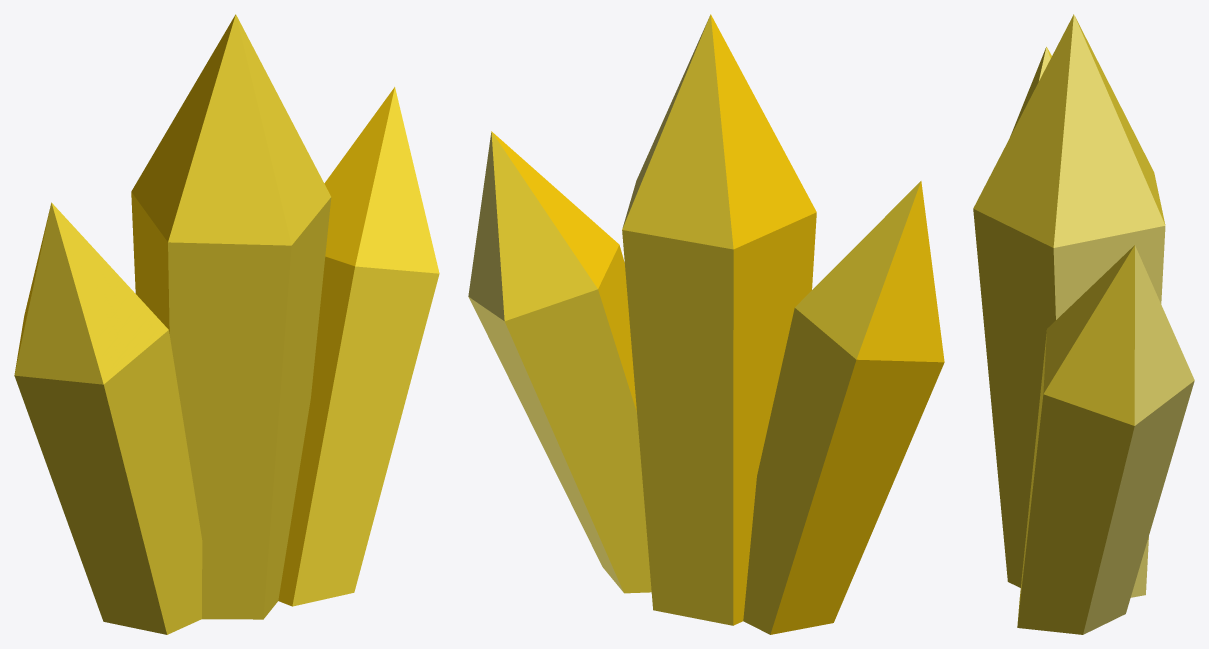
The model's file is Goldgem_rootss.fbx.
The picture shows the model from 3 angles, left to right: view 1: azimuth 30°, elevation 25°; view 2: azimuth 150°, elevation 25°; view 3: azimuth 270°, elevation 25°; orthographic projection.
Visible parts, largest first — view 1: Goldgem_sh_11, Goldgem_sh_5, Goldgem_sh_1, Goldgem_sh_9, Goldgem_sh_7, Goldgem_sh_3, Goldgem_sh_8, Goldgem_sh_6, Goldgem_sh_2, Goldgem_sh_4; view 2: Goldgem_sh_1, Goldgem_sh_5, Goldgem_sh_11, Goldgem_sh_9, Goldgem_sh_6, Goldgem_sh_7, Goldgem_sh_2, Goldgem_sh_3, Goldgem_sh_8; view 3: Goldgem_sh_2, Goldgem_sh_7, Goldgem_sh_3, Goldgem_sh_8, Goldgem_sh_6, Goldgem_sh_1, Goldgem_sh_4, Goldgem_sh_5, Goldgem_sh_11.
Boxes of the visible parts, x1,y1,x2,y2 form: Goldgem_sh_11: (14,202,178,466); Goldgem_sh_5: (131,76,264,375); Goldgem_sh_1: (176,323,318,609); Goldgem_sh_9: (47,394,202,634); Goldgem_sh_7: (319,87,439,345); Goldgem_sh_3: (199,14,306,267); Goldgem_sh_8: (278,371,413,606); Goldgem_sh_6: (293,314,419,504); Goldgem_sh_2: (253,150,331,352); Goldgem_sh_4: (202,506,293,619); Goldgem_sh_1: (629,317,783,625); Goldgem_sh_5: (658,96,816,368); Goldgem_sh_11: (779,181,944,458); Goldgem_sh_9: (743,377,903,634); Goldgem_sh_6: (489,312,648,560); Goldgem_sh_7: (468,131,628,342); Goldgem_sh_2: (622,138,671,323); Goldgem_sh_3: (655,14,755,148); Goldgem_sh_8: (533,427,651,593); Goldgem_sh_2: (975,137,1165,356); Goldgem_sh_7: (1037,245,1194,457); Goldgem_sh_3: (973,14,1128,230); Goldgem_sh_8: (1017,466,1135,634); Goldgem_sh_6: (1030,386,1189,580); Goldgem_sh_1: (983,316,1148,597); Goldgem_sh_4: (1000,500,1132,597); Goldgem_sh_5: (1102,71,1161,207); Goldgem_sh_11: (1010,46,1051,136).
Size of the model in its own units: 165 by 206 by 72.63.
2 materials, 1 textured.
